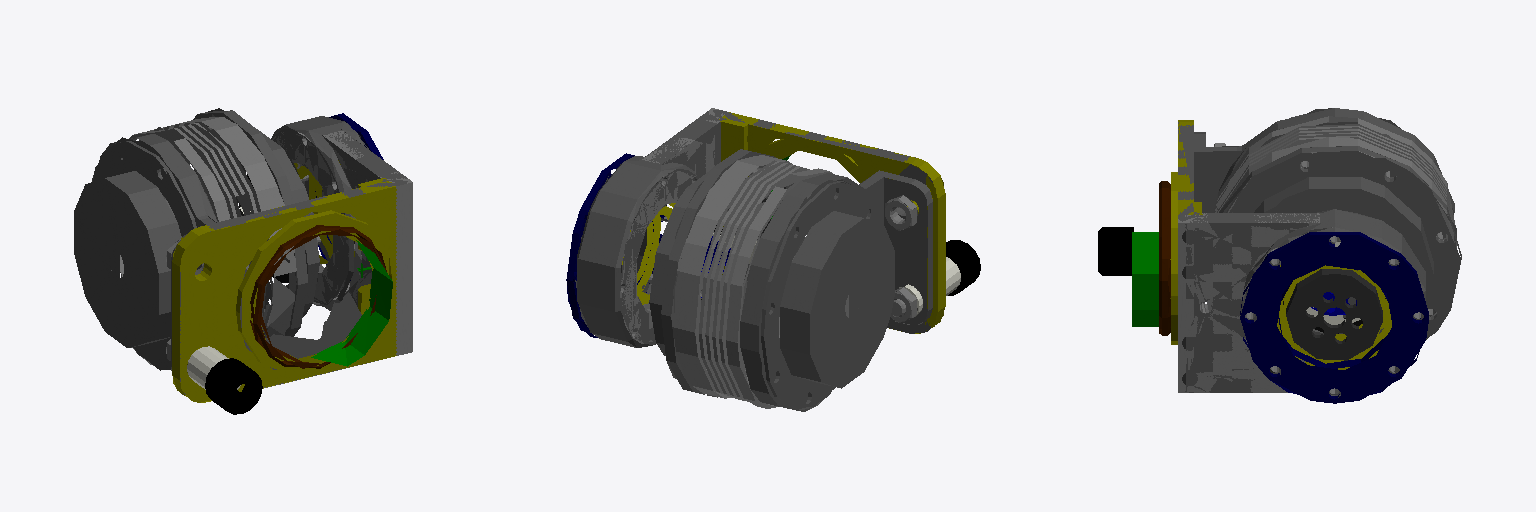
3 views of the same model, side by side, from view 1: azimuth 30°, elevation 25°; view 2: azimuth 150°, elevation 25°; view 3: azimuth 270°, elevation 25° (orthographic).
Bounding box in the file's own units: 0.075 × 0.0639 × 0.093.
1 materials, 1 textured.